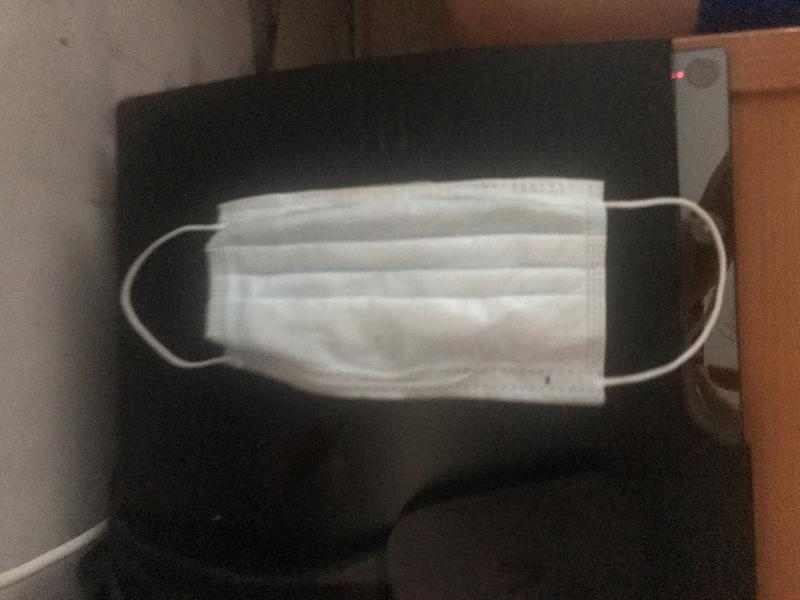medical_mask: (122, 176, 727, 408)
